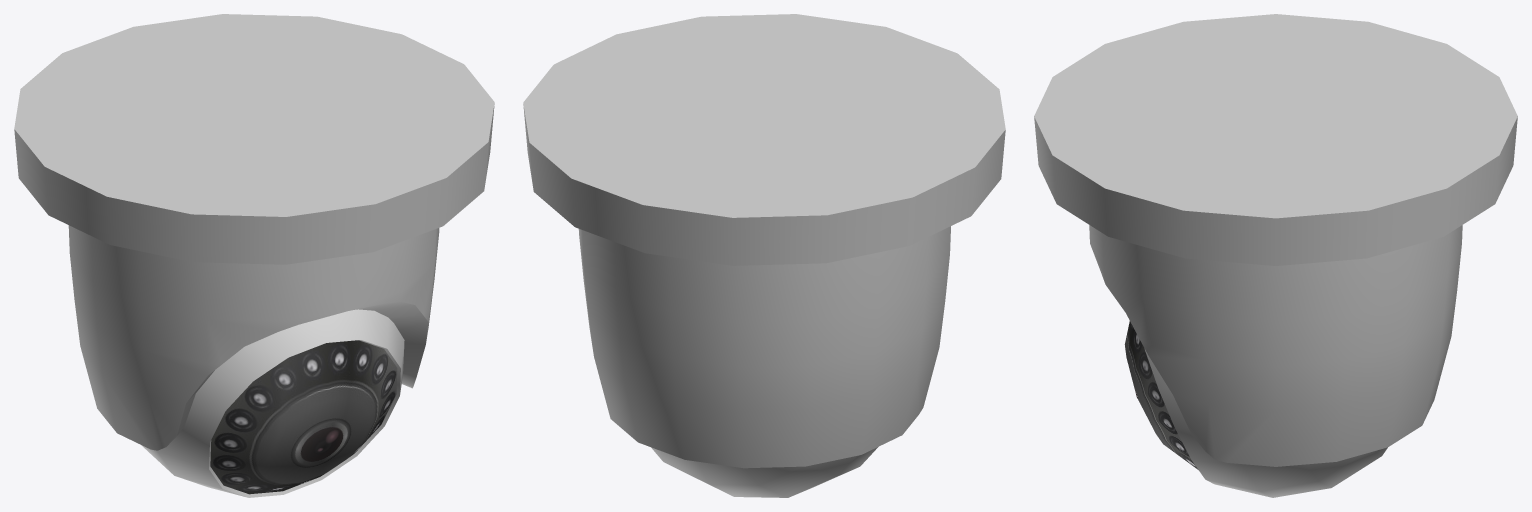
File: CCTV.glb
3 views of the same model, side by side, from view 1: azimuth 30°, elevation 25°; view 2: azimuth 150°, elevation 25°; view 3: azimuth 270°, elevation 25° (orthographic).
Visible parts, largest first — view 1: Circle, Sphere; view 2: Circle, Sphere; view 3: Circle, Sphere.
Boxes of the visible parts, box(x1,y1,x2,y2) form: Circle: box(14, 14, 494, 450); Sphere: box(141, 309, 404, 497); Circle: box(523, 14, 1005, 468); Sphere: box(651, 447, 877, 497); Circle: box(1034, 14, 1517, 466); Sphere: box(1124, 321, 1387, 497).
Size of the model in its own units: 14 by 11.74 by 14.
Materials: 2 (1 with a texture image).
